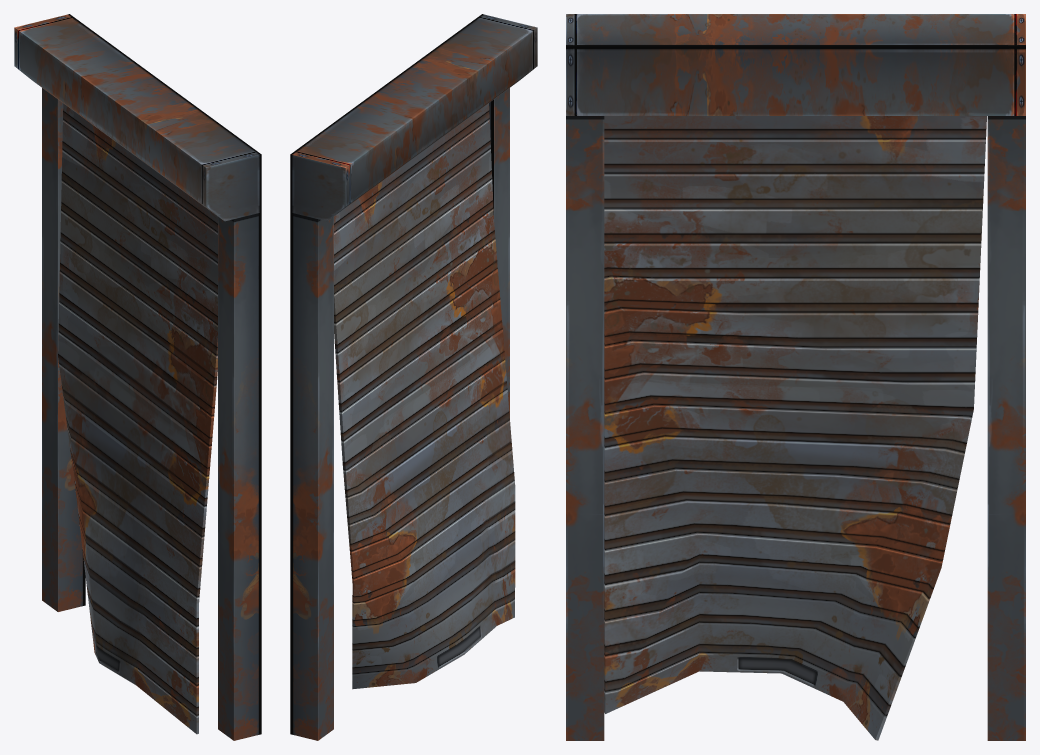
File: rollerShutter01_2m_B.fbx
The picture shows the model from 3 angles, left to right: view 1: azimuth 30°, elevation 25°; view 2: azimuth 150°, elevation 25°; view 3: azimuth 270°, elevation 25°; orthographic projection. The views are drawn at different scales.
Visible parts, largest first — view 1: rollerShutter01_2m_B; view 2: rollerShutter01_2m_B; view 3: rollerShutter01_2m_B.
Boxes of the visible parts, x1,y1,x2,y2 form: rollerShutter01_2m_B: (14, 14, 261, 740); rollerShutter01_2m_B: (290, 14, 537, 740); rollerShutter01_2m_B: (566, 14, 1025, 740).
Bounding box in the file's own units: 39.53 × 300 × 180.
